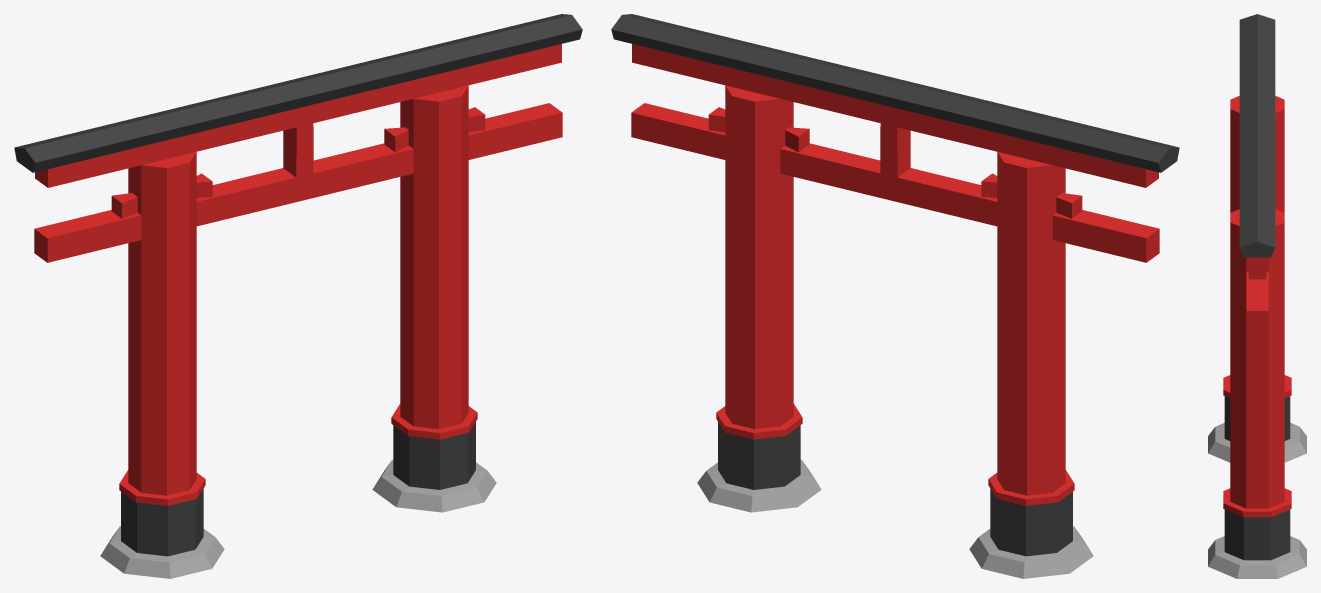
The picture shows the model from 3 angles, left to right: view 1: azimuth 30°, elevation 25°; view 2: azimuth 150°, elevation 25°; view 3: azimuth 270°, elevation 25°; orthographic projection. The views are drawn at different scales.
Parts seen in each view (by area): view 1: Torii; view 2: Torii; view 3: Torii.
Boxes of the visible parts, box(x1,y1,x2,y2) form: Torii: box(14, 14, 582, 578); Torii: box(611, 14, 1179, 578); Torii: box(1208, 14, 1306, 578).
Size of the model in its own units: 1.5 by 1.15 by 0.2759.
